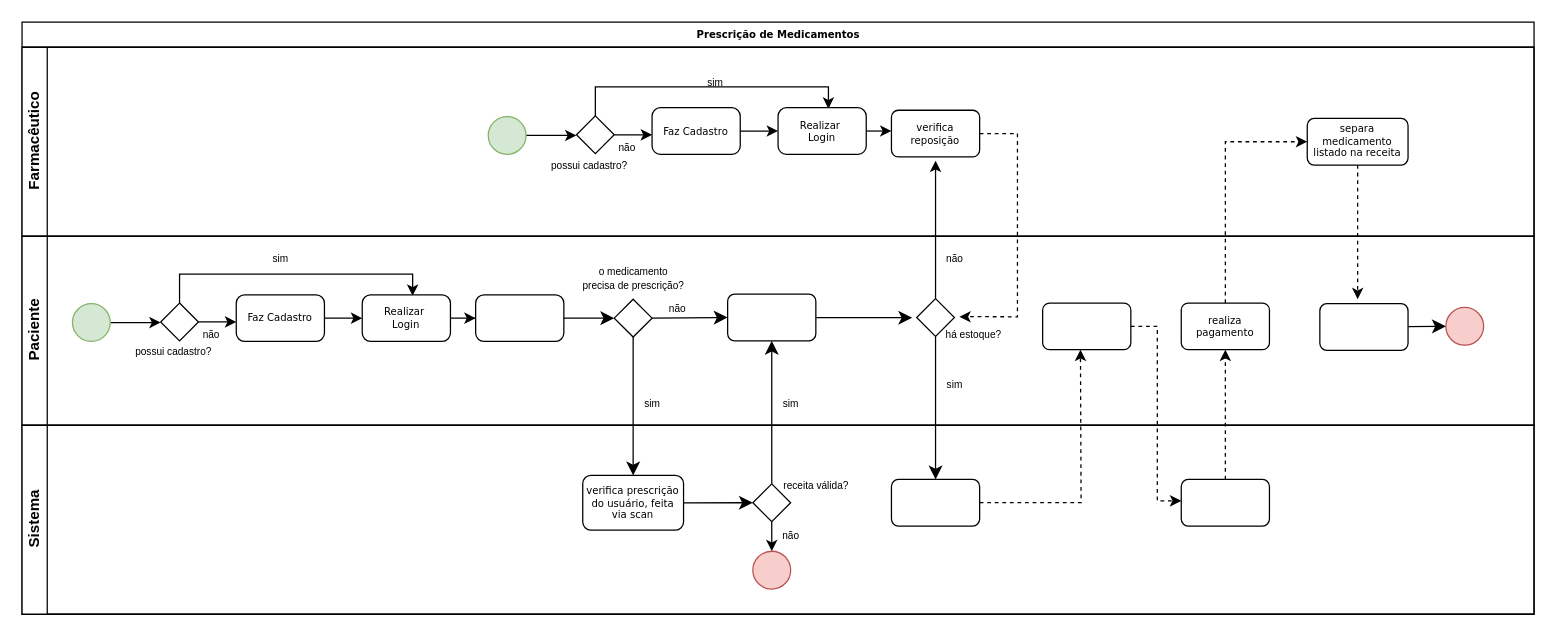
This 1556x636 diagram has some shape labels left out. Here are the shapes that lost their labels. From the top down, the centre of each, then its label:
At point 519,317: "aponta necessidade em medicamento".
At point 771,317: "solicita medicamento".
At point 1086,326: "informa local de retirada".
At point 1363,326: "retira medicamento".
At point 935,502: "reserva medicamento".
At point 1224,502: "emite fatura".
